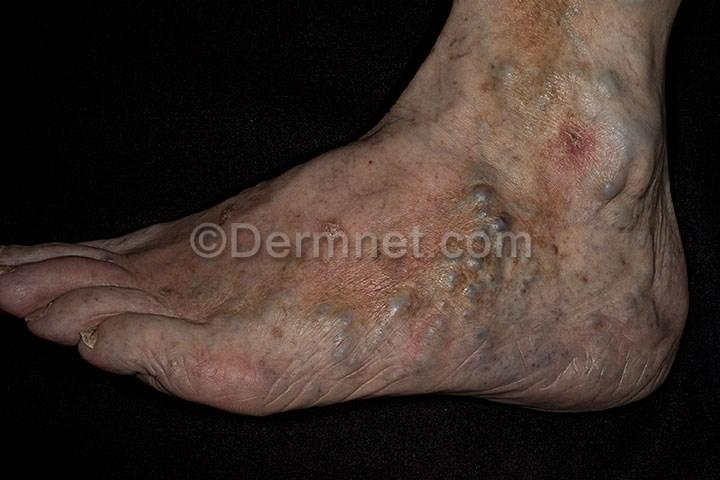Eczema: (429, 176, 530, 261), (363, 278, 450, 370), (508, 147, 573, 260), (472, 27, 555, 112), (514, 333, 608, 408), (297, 295, 376, 383), (430, 107, 525, 175), (572, 50, 650, 127), (570, 224, 643, 303), (499, 262, 577, 332), (446, 264, 510, 347), (236, 248, 307, 321), (149, 255, 233, 315), (588, 159, 657, 228), (547, 99, 608, 175), (584, 295, 646, 369), (294, 198, 364, 260), (366, 225, 437, 280), (453, 336, 516, 397), (632, 283, 689, 343), (515, 0, 595, 35), (196, 200, 265, 235), (427, 26, 473, 78)
